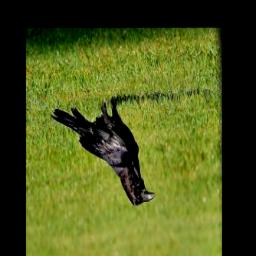Crow: (51, 95, 158, 208)
